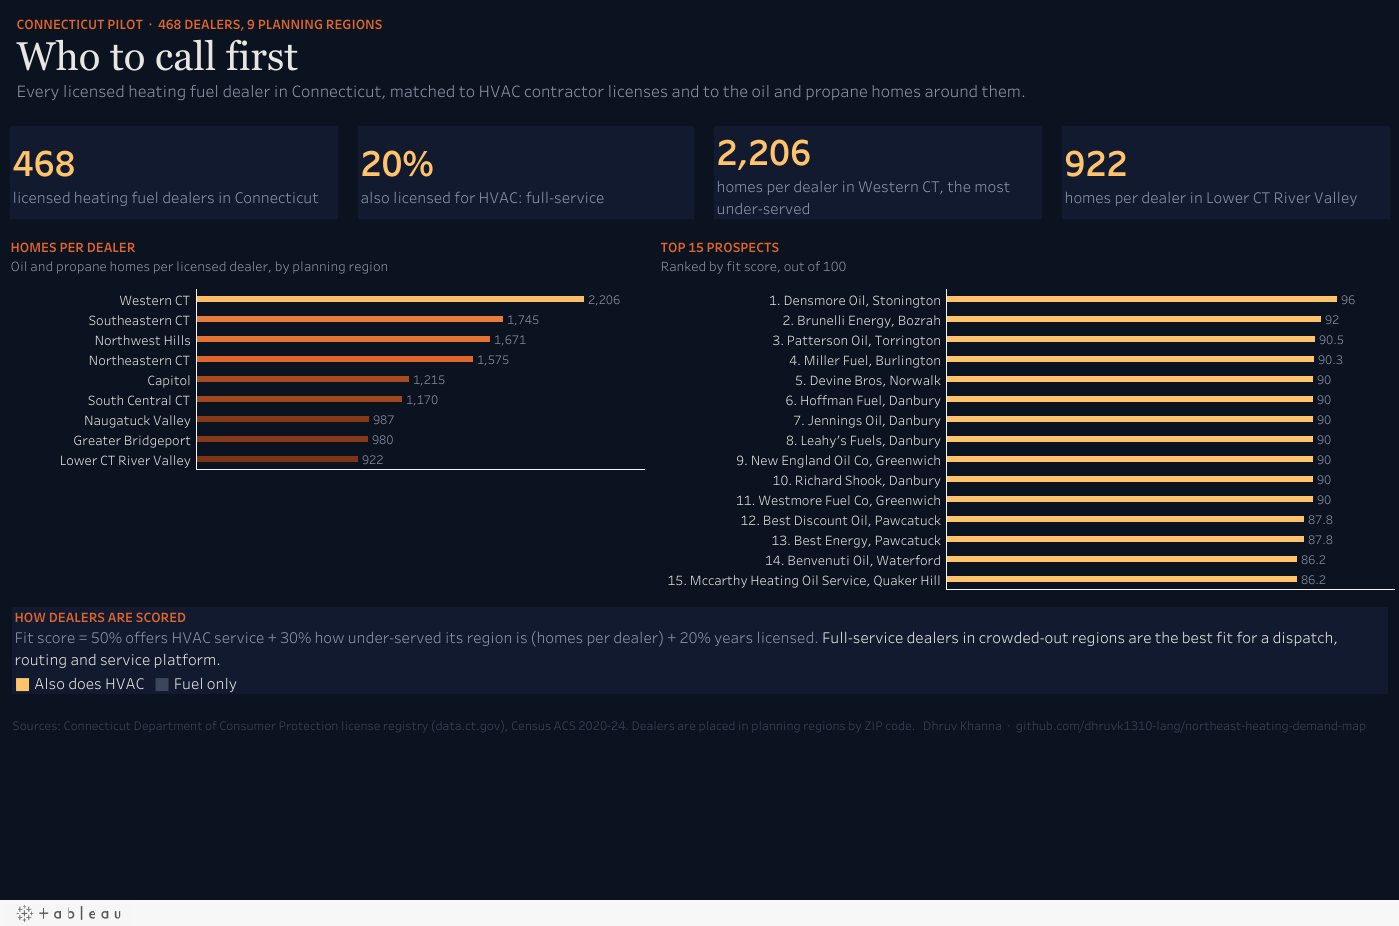

The page's visual inventory and layout, read from the dashboard file:
{"tool":"tableau","page":{"name":"Connecticut Dealer Prospects","canvas":[1400,900],"ordinal":2},"visuals":[{"type":"text","box":[0,0,1400,117]},{"type":"text","box":[0,117,350,90]},{"type":"text","box":[350,117,350,90]},{"type":"text","box":[700,117,350,90]},{"type":"text","box":[1050,117,350,90]},{"type":"text","box":[0,207,616,51.8]},{"type":"text","box":[616,207,784,51.8]},{"type":"worksheet","title":"CT Region Density","mark":"Bar","rows":["region"],"cols":["homes_per_dealer"],"box":[0,258.8,616,524.2]},{"type":"worksheet","title":"CT Prospects","mark":"Bar","rows":["label"],"cols":["fit_score"],"box":[616,258.8,784,524.2]},{"type":"text","box":[0,783,1400,81]},{"type":"text","box":[0,864,1400,36]}]}

Visuals, with their boxes on the page's 1400x900 design canvas (x1, y1, x2, y2). These are canvas units, not pixel positions in the 1399x926 screenshot, which may show the page scaled, cropped or inside an application window:
text: 0 0 1400 117
text: 0 117 350 207
text: 350 117 700 207
text: 700 117 1050 207
text: 1050 117 1400 207
text: 0 207 616 259
text: 616 207 1400 259
"CT Region Density" worksheet (Bar marks): 0 259 616 783
"CT Prospects" worksheet (Bar marks): 616 259 1400 783
text: 0 783 1400 864
text: 0 864 1400 900
